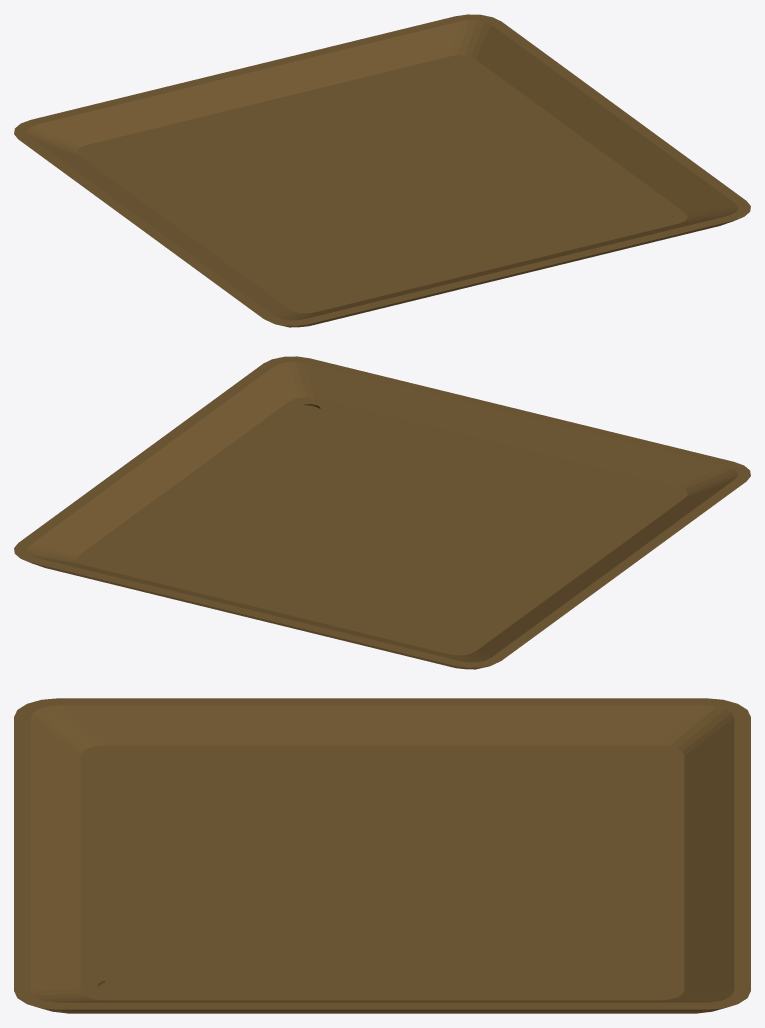
The picture shows the model from 3 angles, top to bottom: view 1: azimuth 30°, elevation 25°; view 2: azimuth 150°, elevation 25°; view 3: azimuth 270°, elevation 25°; orthographic projection. The views are drawn at different scales.
Visible parts, largest first — view 1: Cube; view 2: Cube; view 3: Cube.
Boxes of the visible parts, x1,y1,x2,y2 form: Cube: (14,14,750,327); Cube: (14,356,750,669); Cube: (14,698,750,1013).
Bounding box in the file's own units: 220 × 8 × 220.
